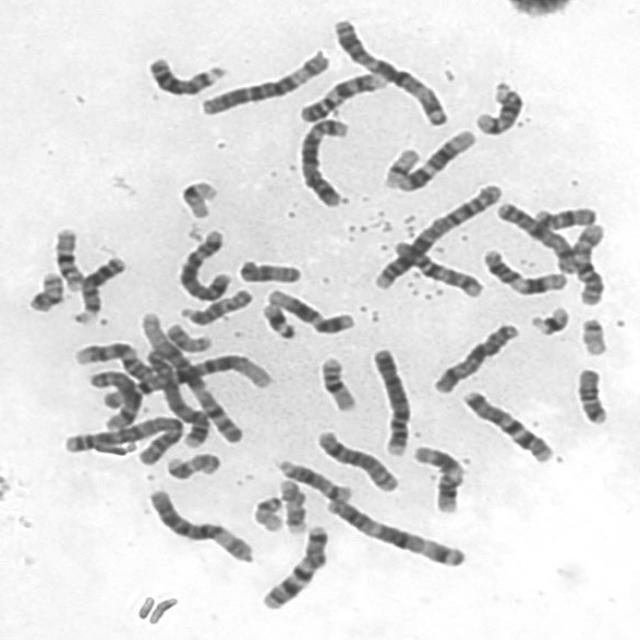A1: (134, 310, 245, 446), (136, 330, 246, 446)
A2: (366, 178, 506, 292), (58, 410, 186, 465)
A3: (326, 12, 452, 127), (318, 493, 469, 570)
B4: (143, 336, 214, 450), (365, 343, 413, 457)
B5: (292, 113, 352, 208), (172, 224, 235, 303)
C10: (388, 234, 486, 299), (568, 218, 608, 307)
C11: (477, 244, 569, 297), (408, 440, 466, 515)
C12: (392, 124, 478, 192), (260, 284, 358, 336)
C6: (195, 46, 333, 117), (142, 483, 257, 565)
C7: (457, 385, 556, 464), (255, 520, 332, 611)
C8: (311, 425, 401, 493), (83, 367, 142, 432)
C9: (293, 68, 388, 124), (68, 337, 157, 383)
D13: (68, 250, 128, 326), (142, 52, 229, 98)
D14: (272, 455, 354, 503), (468, 76, 526, 136)
D15: (177, 283, 255, 327), (233, 255, 304, 285)
E16: (314, 351, 360, 413), (48, 222, 86, 292)
E17: (274, 474, 310, 535), (162, 448, 224, 481)
E18: (571, 363, 611, 426), (530, 202, 600, 231)
F19: (378, 143, 423, 191), (174, 176, 222, 220)
F20: (22, 266, 66, 314), (160, 319, 214, 353)
G21: (256, 298, 298, 341), (526, 302, 572, 337)
G22: (247, 492, 287, 534), (576, 312, 610, 357)
X: (428, 319, 522, 395), (491, 197, 579, 275)
